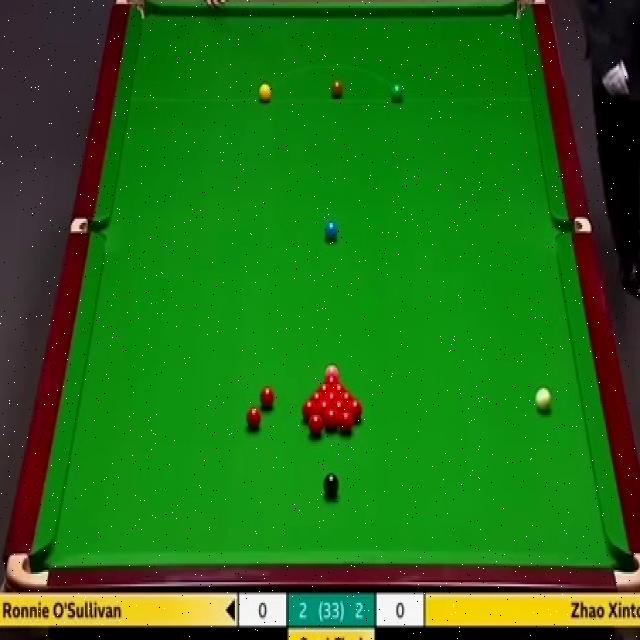black-ball: (322, 471, 338, 497)
blue-ball: (324, 222, 339, 239)
brown-ball: (331, 80, 343, 100)
green-ball: (390, 81, 404, 104)
pink-ball: (325, 365, 340, 380)
red-ball: (306, 413, 324, 437), (246, 406, 261, 430), (339, 410, 354, 433), (345, 399, 361, 420), (324, 408, 339, 430), (260, 387, 275, 408), (333, 401, 346, 422), (311, 391, 323, 404), (326, 392, 337, 405), (326, 377, 336, 389)
white-ball: (534, 385, 554, 414)
yellow-ball: (259, 82, 271, 104)
